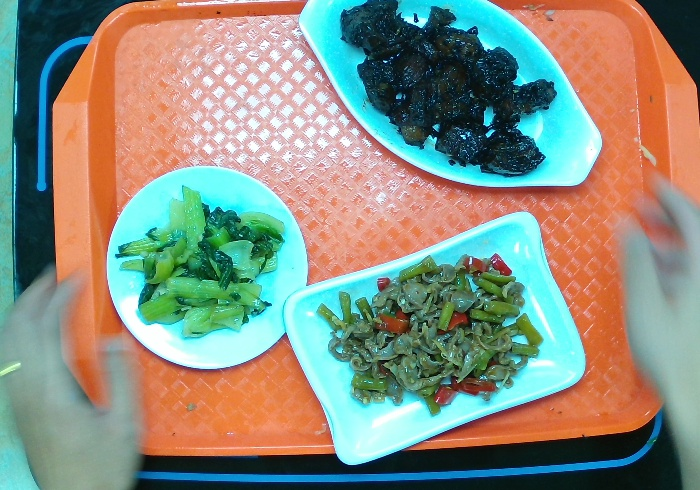RJxy-Si_Fang_Ao_Bian_Wan: (275, 213, 584, 478)
RJxy-Xiao_Yuan_Die: (101, 162, 316, 376)
RJxy-Yu_Pan: (298, 1, 602, 187)
